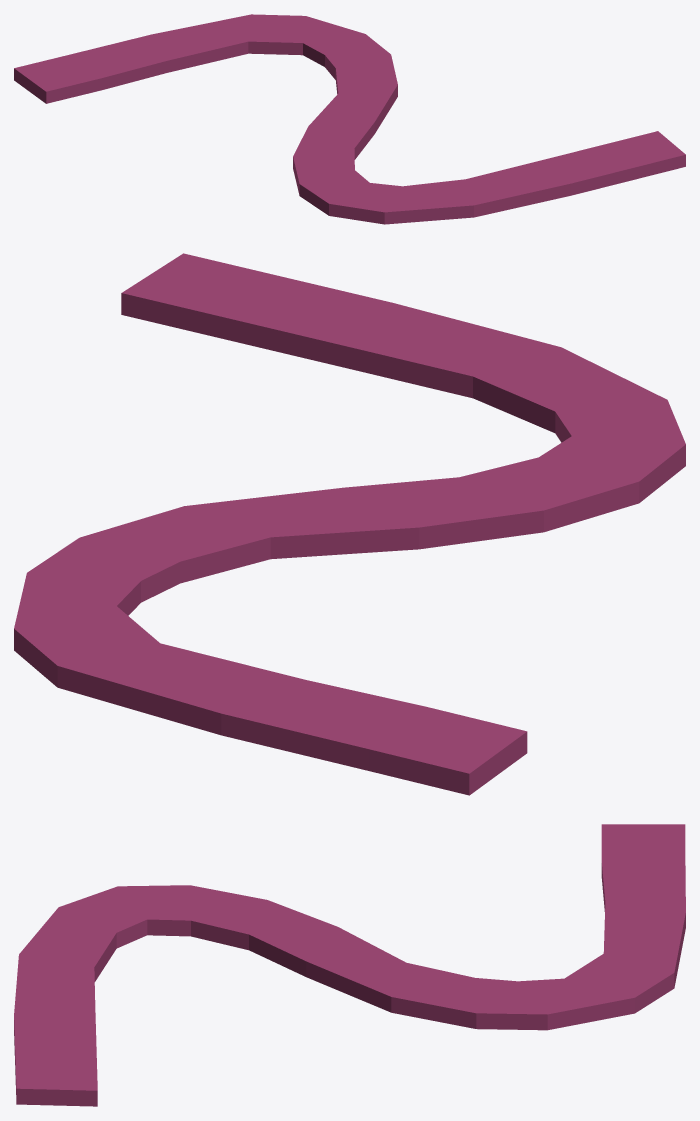
File: yol6.fbx
The picture shows the model from 3 angles, top to bottom: view 1: azimuth 30°, elevation 25°; view 2: azimuth 150°, elevation 25°; view 3: azimuth 270°, elevation 25°; orthographic projection. The views are drawn at different scales.
Visible parts, largest first — view 1: Plane.014; view 2: Plane.014; view 3: Plane.014.
Part boxes in pixels (bbox=[...]): Plane.014: bbox=[14, 14, 685, 224]; Plane.014: bbox=[14, 253, 685, 795]; Plane.014: bbox=[14, 824, 685, 1106].
Bounding box in the file's own units: 2201 × 60.96 × 2346.
